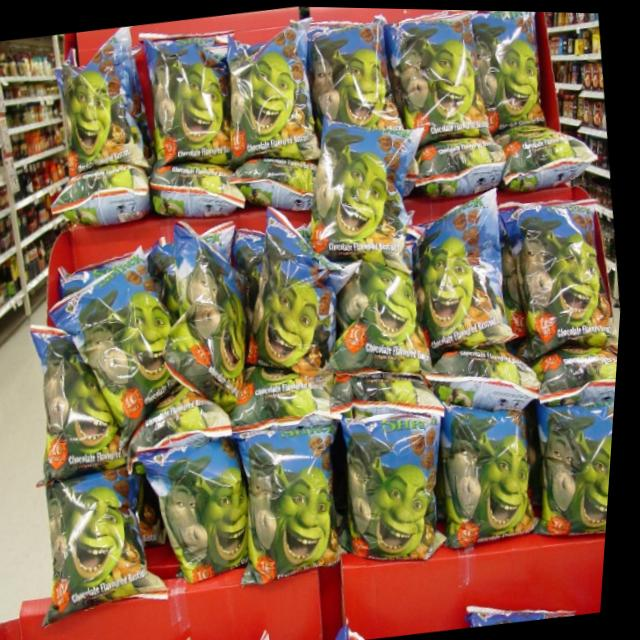q214: (233, 416, 362, 583), (40, 457, 171, 620), (156, 223, 270, 409), (444, 391, 558, 555), (344, 407, 457, 565), (44, 31, 157, 188), (76, 263, 189, 418), (245, 202, 342, 378), (518, 198, 628, 348), (152, 448, 269, 583), (144, 18, 246, 166), (294, 8, 402, 147), (330, 250, 439, 383), (221, 20, 321, 162), (455, 8, 561, 139), (416, 209, 515, 349), (539, 380, 621, 535), (312, 143, 410, 260), (392, 8, 481, 132)
